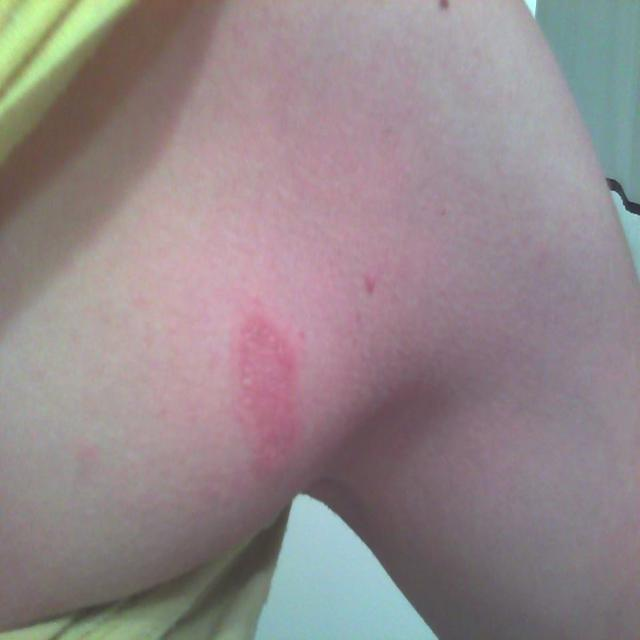Rosacea: (217, 316, 298, 482)
